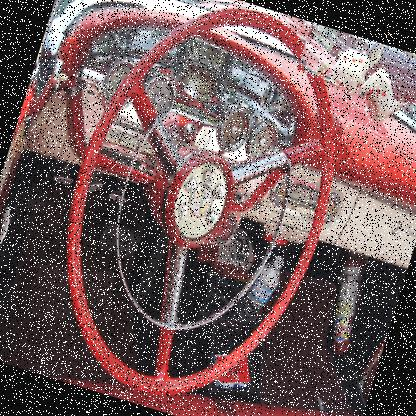Car: (0, 0, 415, 415), (296, 22, 415, 114)
